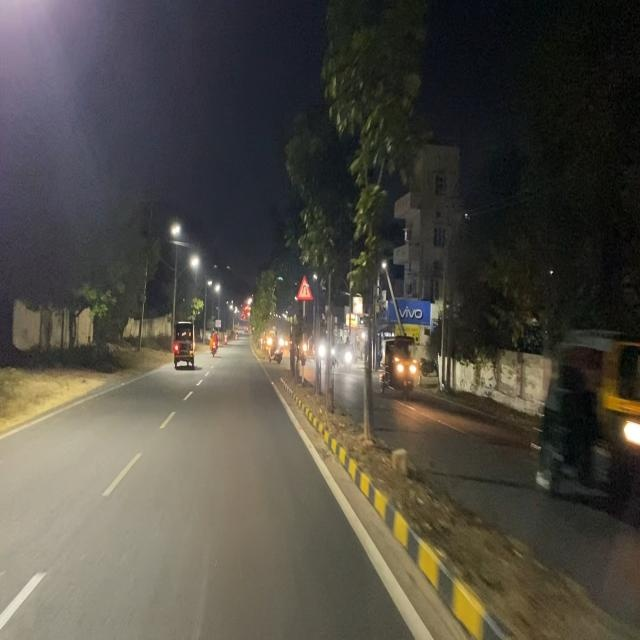bien_nguy_hiem: (297, 274, 313, 301)
